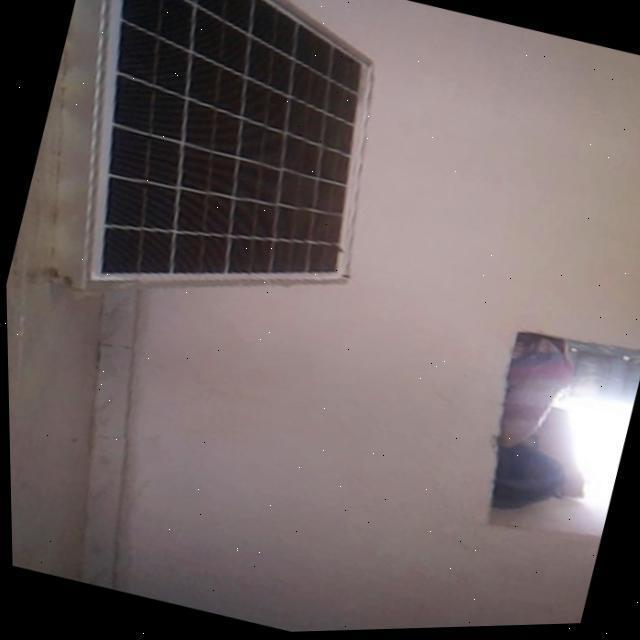Normal Solar Panel: (41, 0, 405, 333)
